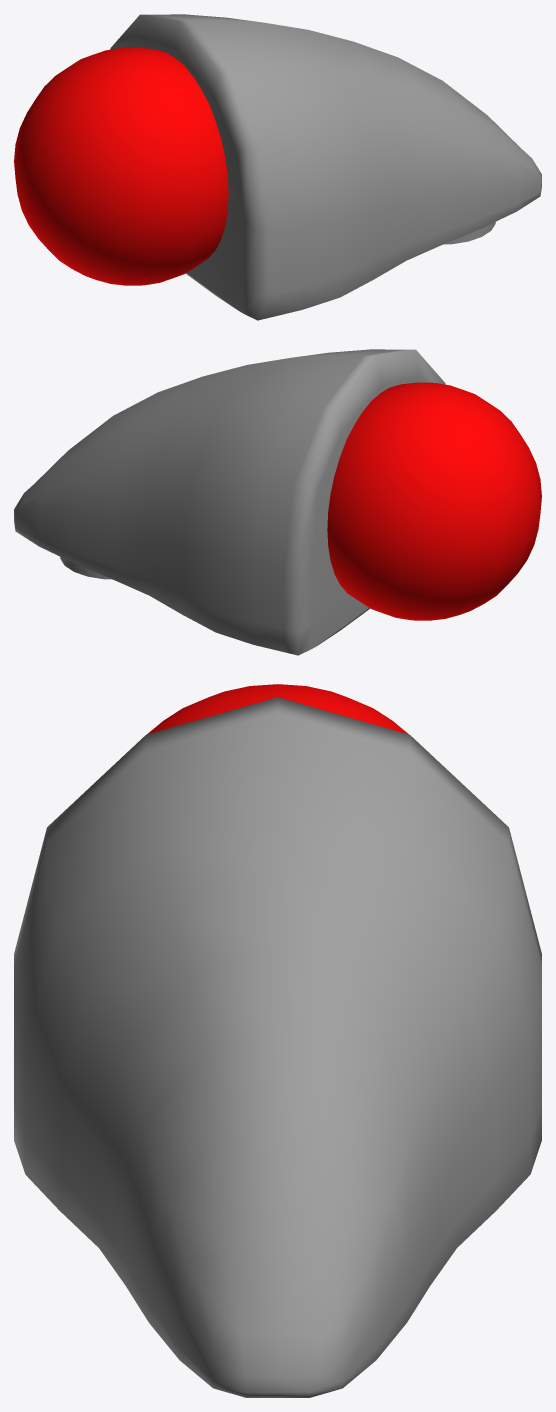
Rendered from Braccio.fbx.
The picture shows the model from 3 angles, top to bottom: view 1: azimuth 30°, elevation 25°; view 2: azimuth 150°, elevation 25°; view 3: azimuth 270°, elevation 25°; orthographic projection. The views are drawn at different scales.
Visible parts, largest first — view 1: Braccio; view 2: Braccio; view 3: Braccio.
Boxes of the visible parts, x1,y1,x2,y2 form: Braccio: (14, 14, 541, 320); Braccio: (14, 349, 541, 655); Braccio: (14, 684, 541, 1397).
Size of the model in its own units: 17.52 by 8.97 by 9.48.
